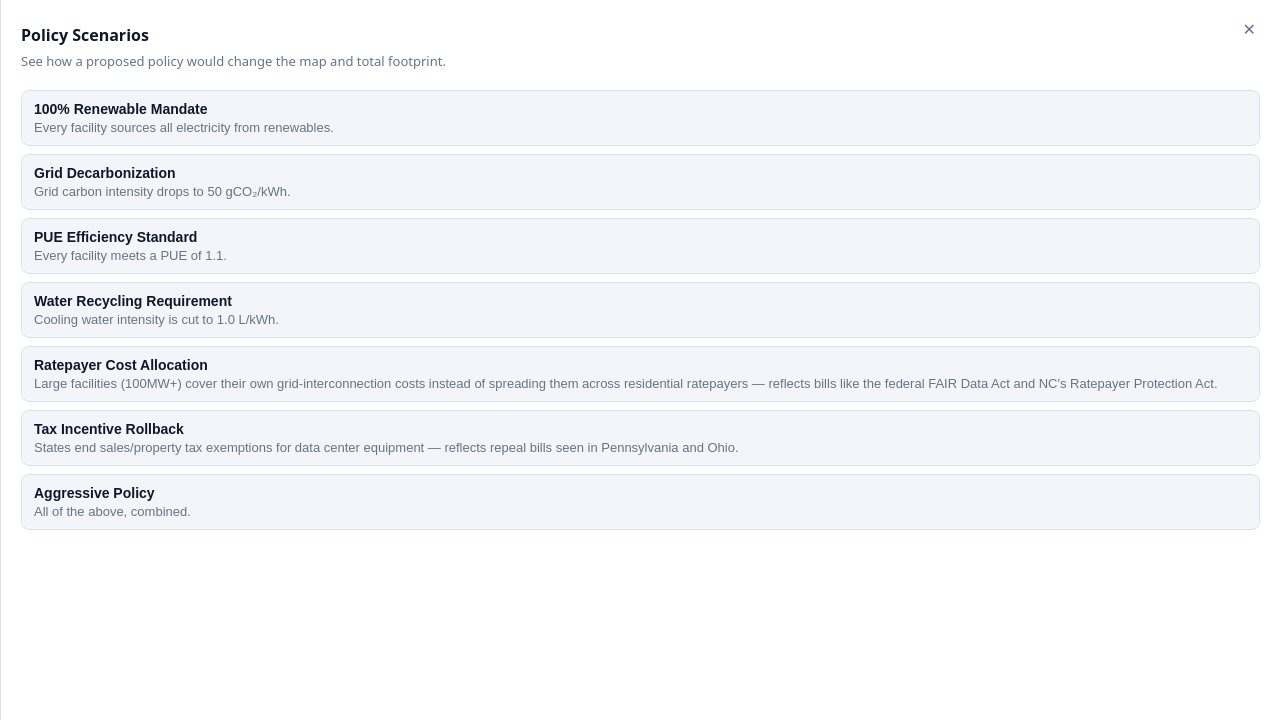
Test case: ScenarioPanel › copy link writes the preset's shareable URL to the clipboard
Click the text "Grid Decarbonization" at (105, 172), box x1=34 y1=164 x2=176 y2=180
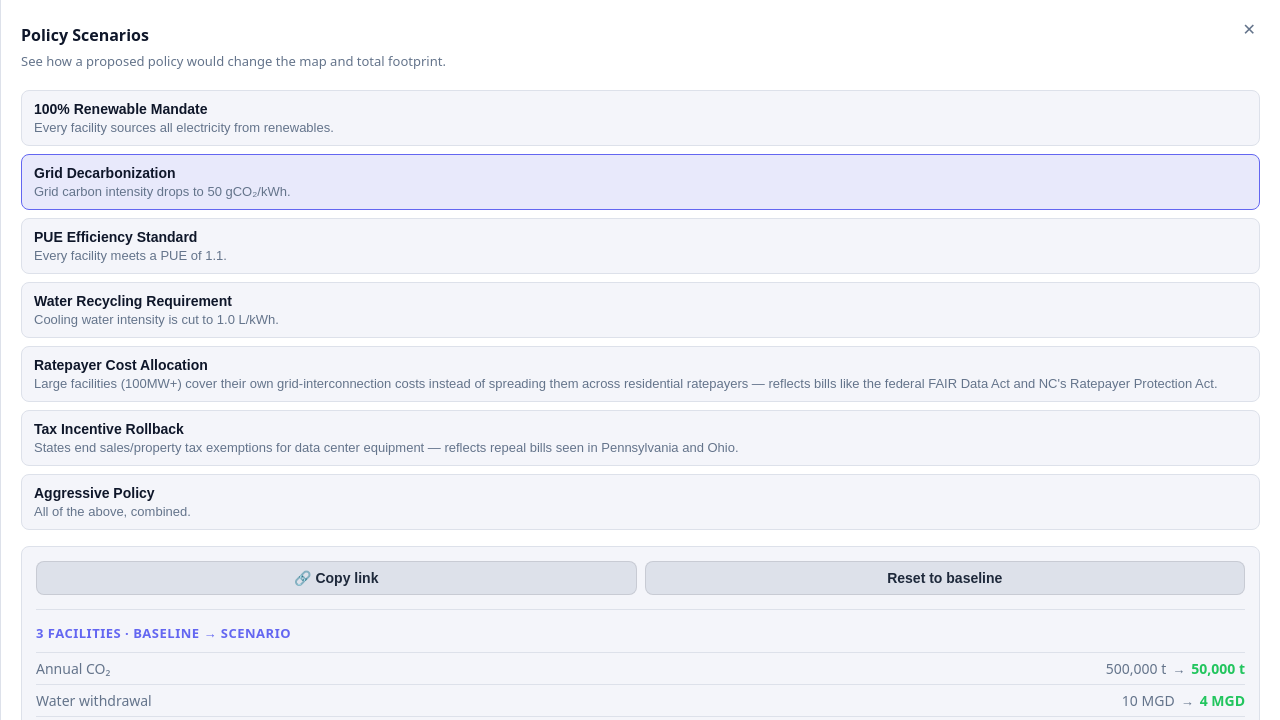
Check: the text "3 facilities · baseline → scenario" is shown, box x1=36 y1=624 x2=291 y2=642
Click the button "🔗 Copy link" at (336, 578), box x1=36 y1=560 x2=636 y2=594
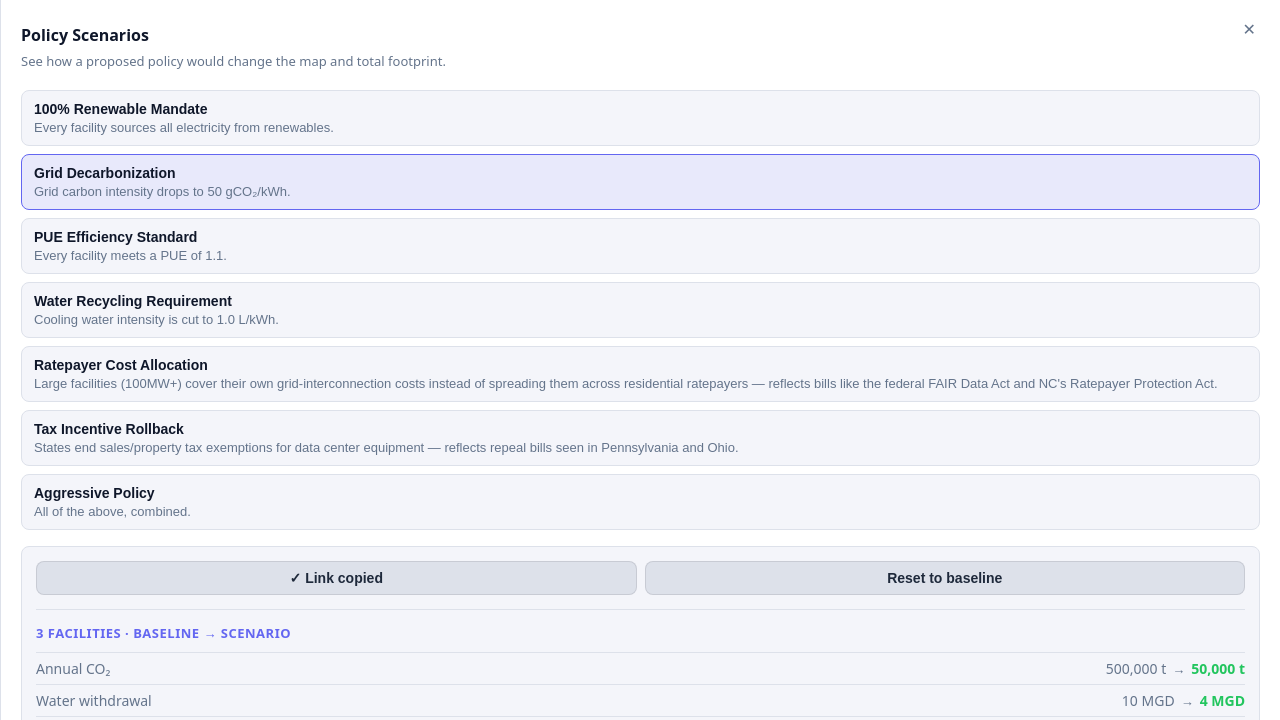
Check: the button "✓ Link copied" is shown, box x1=36 y1=560 x2=636 y2=594
